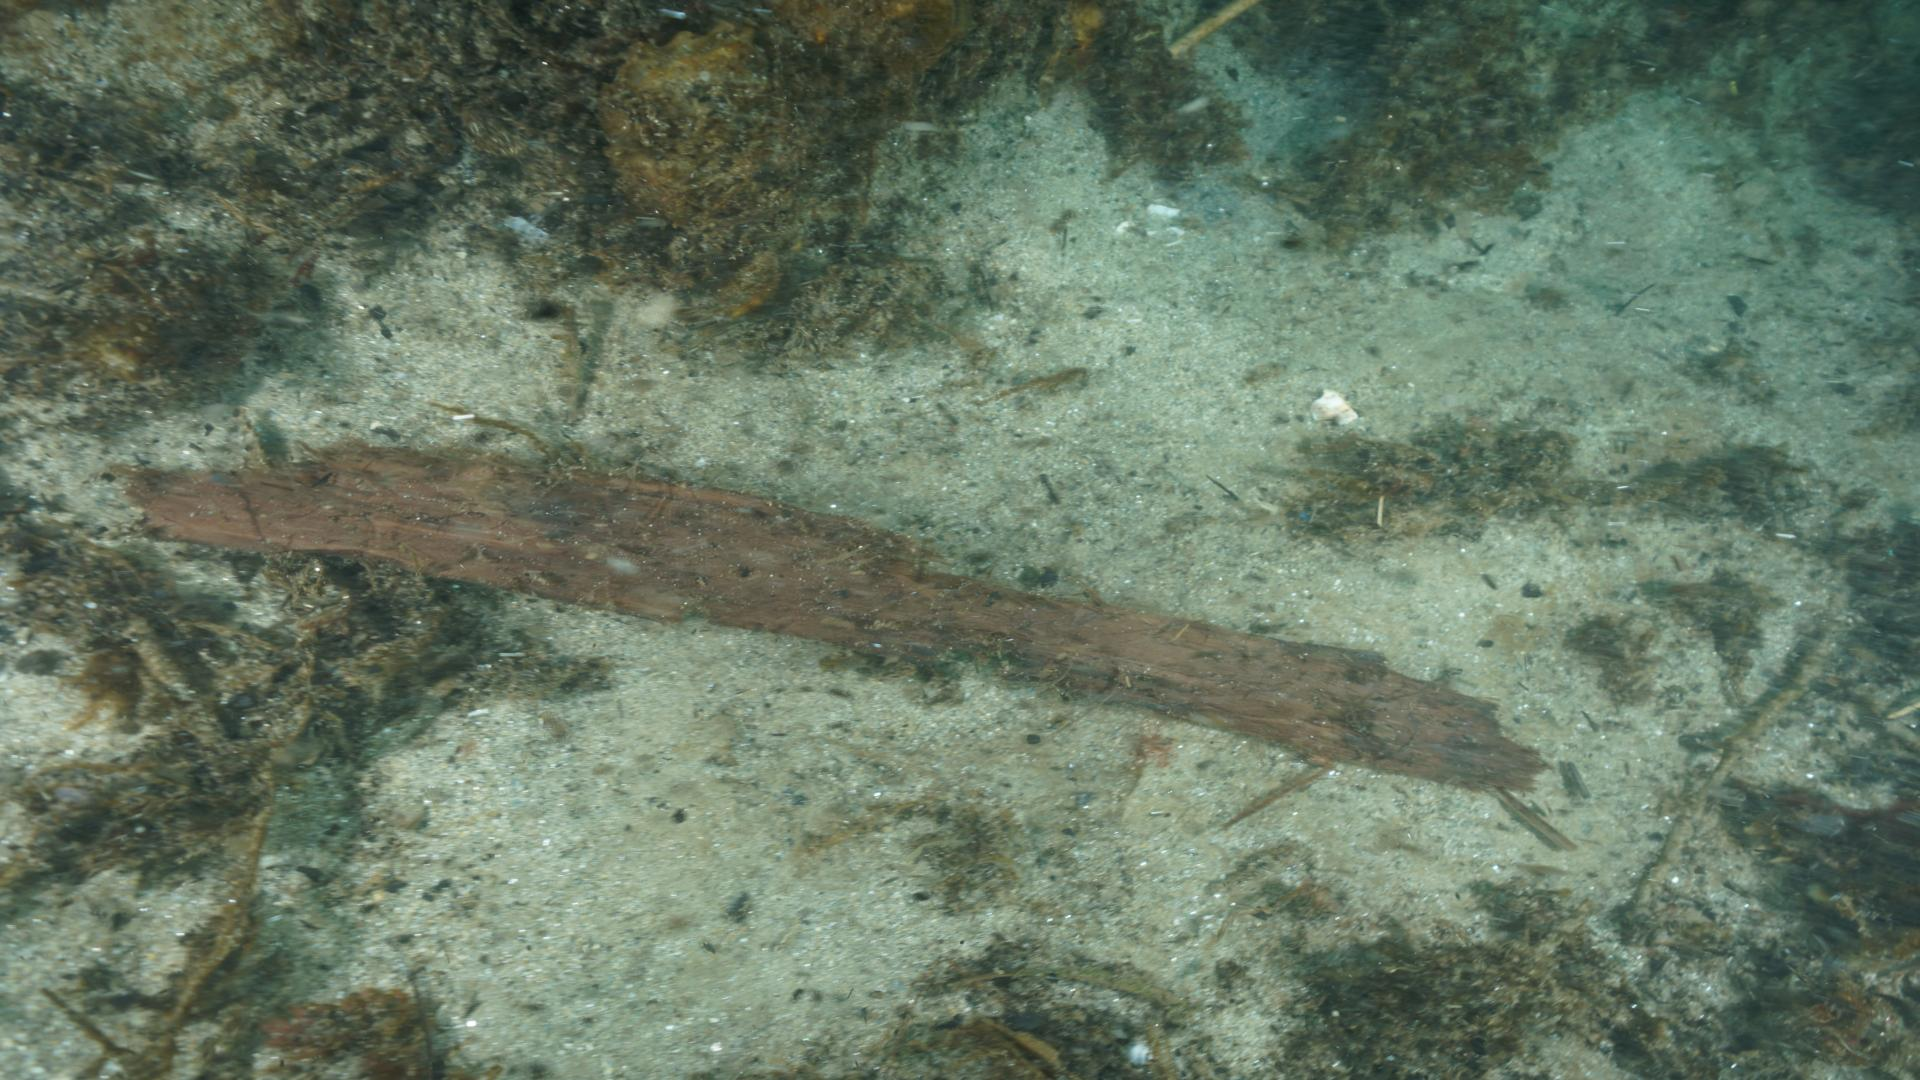wood: (102, 435, 1553, 795)
